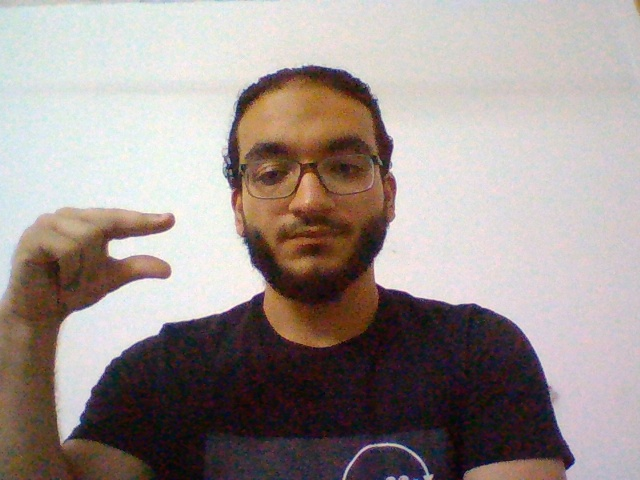No: (7, 206, 198, 321)
